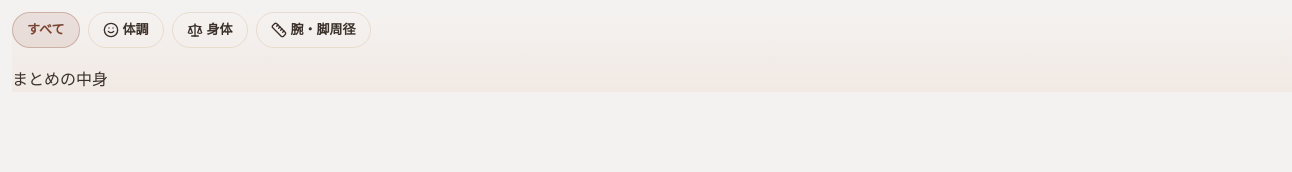
HistoryModuleTabs › shows the module's history view when its chip is pressed
Click the tab "腕・脚周径". click: (313, 30)
box: left=256, top=12, right=371, bottom=48
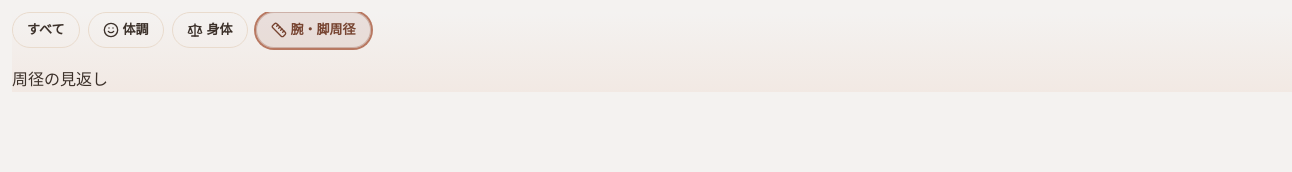
Result: the text "周径の見返し" is shown at left=12, top=71, right=108, bottom=88
Result: the text "まとめの中身" is gone
